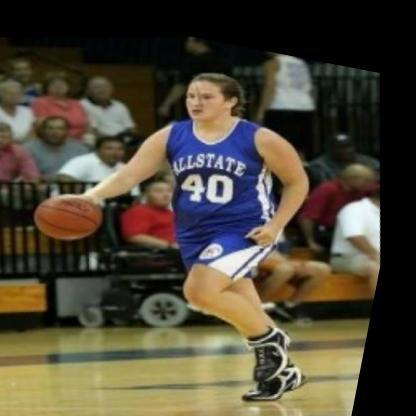basketball: (28, 173, 125, 255)
